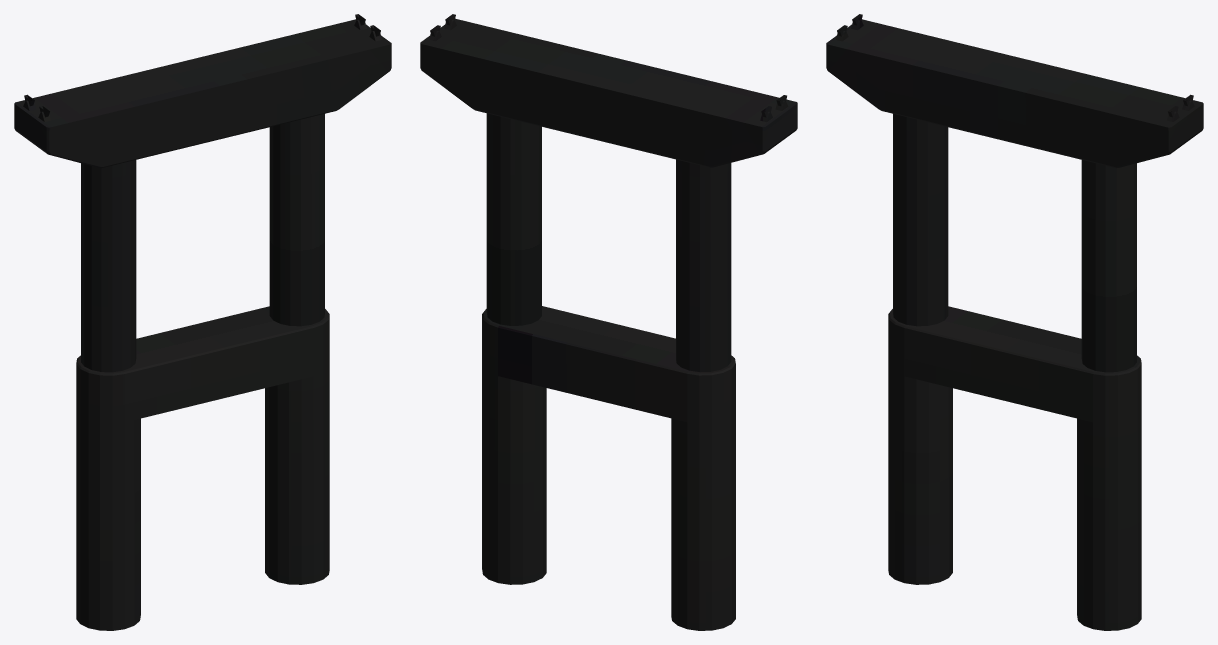
Rendered from Highway_Segment_Pillar01.fbx.
The picture shows the model from 3 angles, left to right: view 1: azimuth 30°, elevation 25°; view 2: azimuth 150°, elevation 25°; view 3: azimuth 330°, elevation 25°; orthographic projection.
Visible parts, largest first — view 1: SM_City_Highway_Segment_Pillar_02a.mo; view 2: SM_City_Highway_Segment_Pillar_02a.mo; view 3: SM_City_Highway_Segment_Pillar_02a.mo.
Part boxes in pixels (<box>): SM_City_Highway_Segment_Pillar_02a.mo: <box>14,14,391,630</box>; SM_City_Highway_Segment_Pillar_02a.mo: <box>420,14,797,630</box>; SM_City_Highway_Segment_Pillar_02a.mo: <box>826,14,1203,630</box>.
Size of the model in its own units: 1030 by 1515 by 178.
